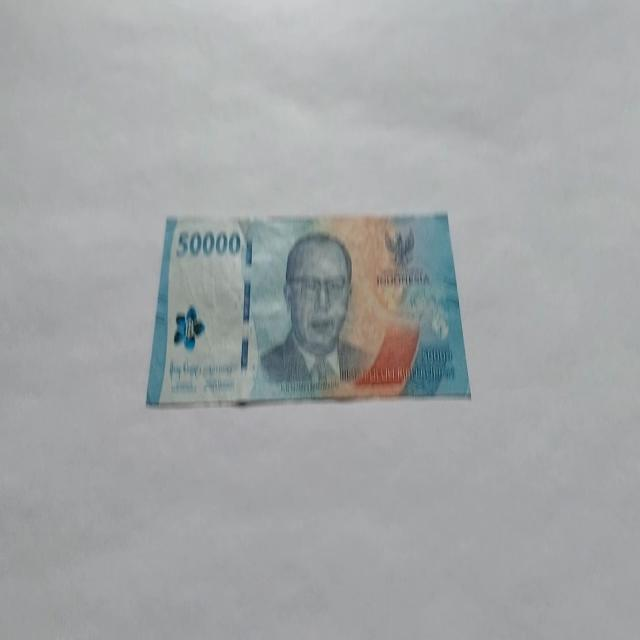lima puluh ribu rupiah: (145, 209, 471, 409), (256, 228, 368, 394)
